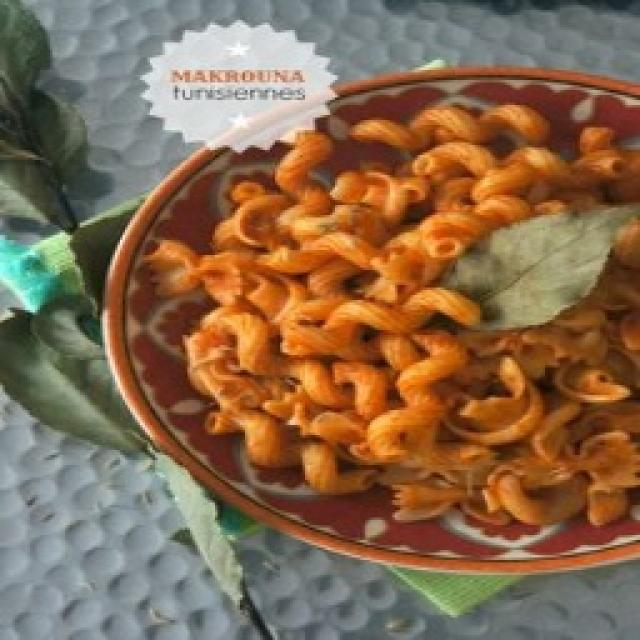Pasta: (98, 65, 640, 580)
